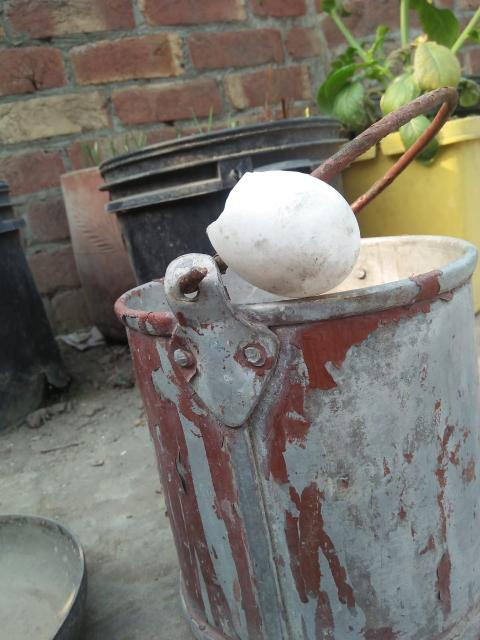Roto: (205, 168, 361, 299)
